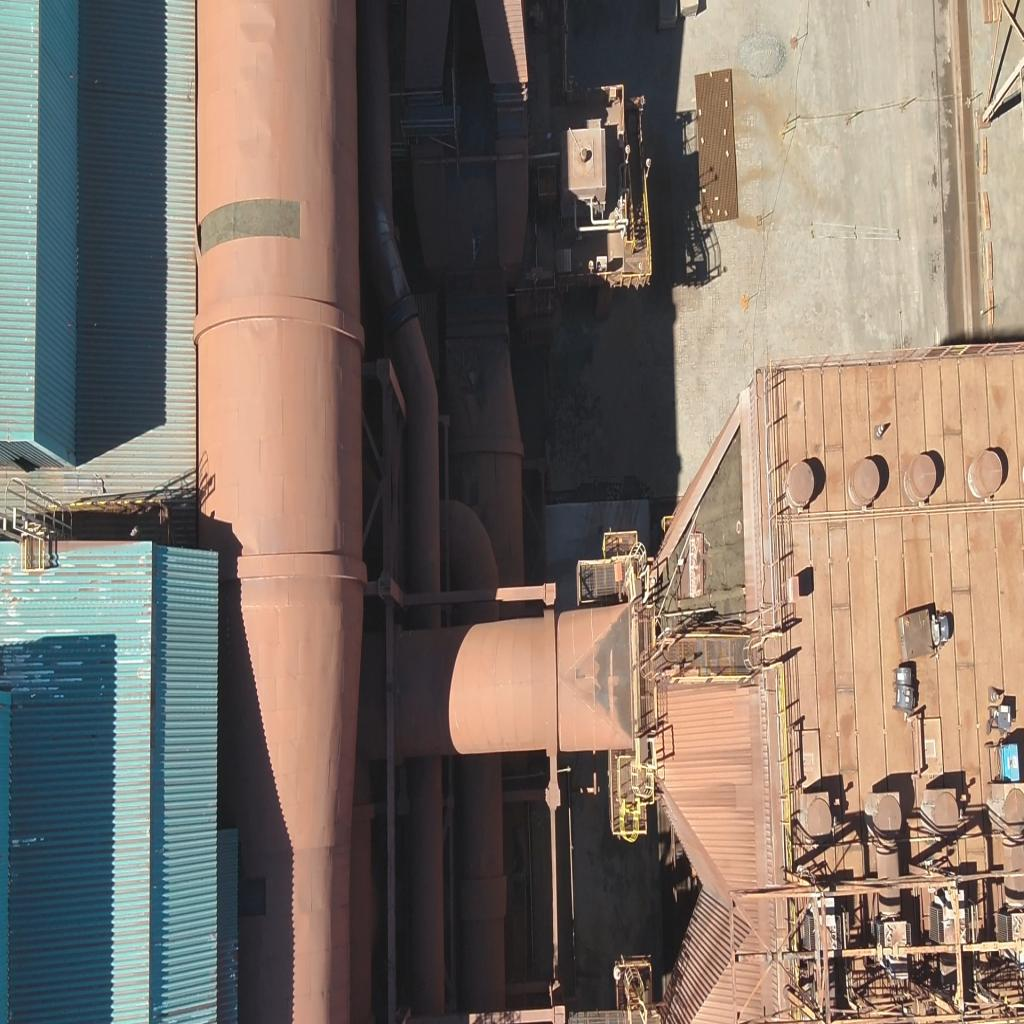Failures: (666, 449, 748, 654), (196, 191, 302, 267)
